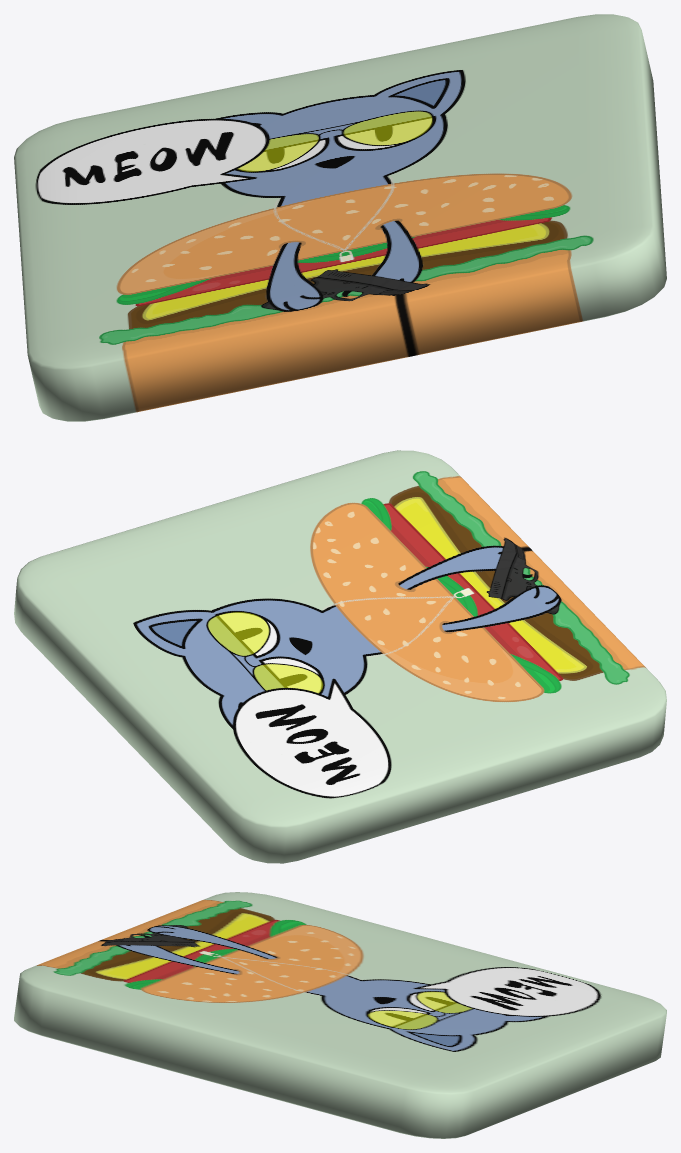
Rendered from WEB3_BIGISLAND_REMESHED_OG4.gltf.
3 views of the same model, one above another, from view 1: azimuth 30°, elevation 25°; view 2: azimuth 150°, elevation 25°; view 3: azimuth 270°, elevation 25° (orthographic). The views are drawn at different scales.
Parts seen in each view (by area): view 1: OG6; view 2: OG6; view 3: OG6.
Part boxes in pixels (bbox=[...]): OG6: bbox=[14, 14, 666, 421]; OG6: bbox=[14, 450, 666, 863]; OG6: bbox=[14, 892, 666, 1138].
Bounding box in the file's own units: 1.22 × 0.3116 × 1.21.
Materials: 1 (1 with a texture image).
